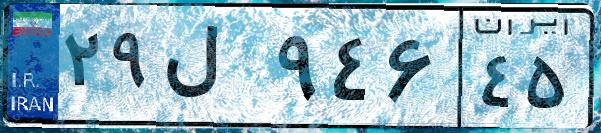2: (57, 26, 110, 100)
4: (330, 28, 385, 110), (475, 38, 525, 113)
5: (525, 38, 570, 115)
6: (385, 28, 445, 110)
9: (270, 28, 330, 110), (110, 28, 158, 98)
ل: (158, 20, 270, 120)
